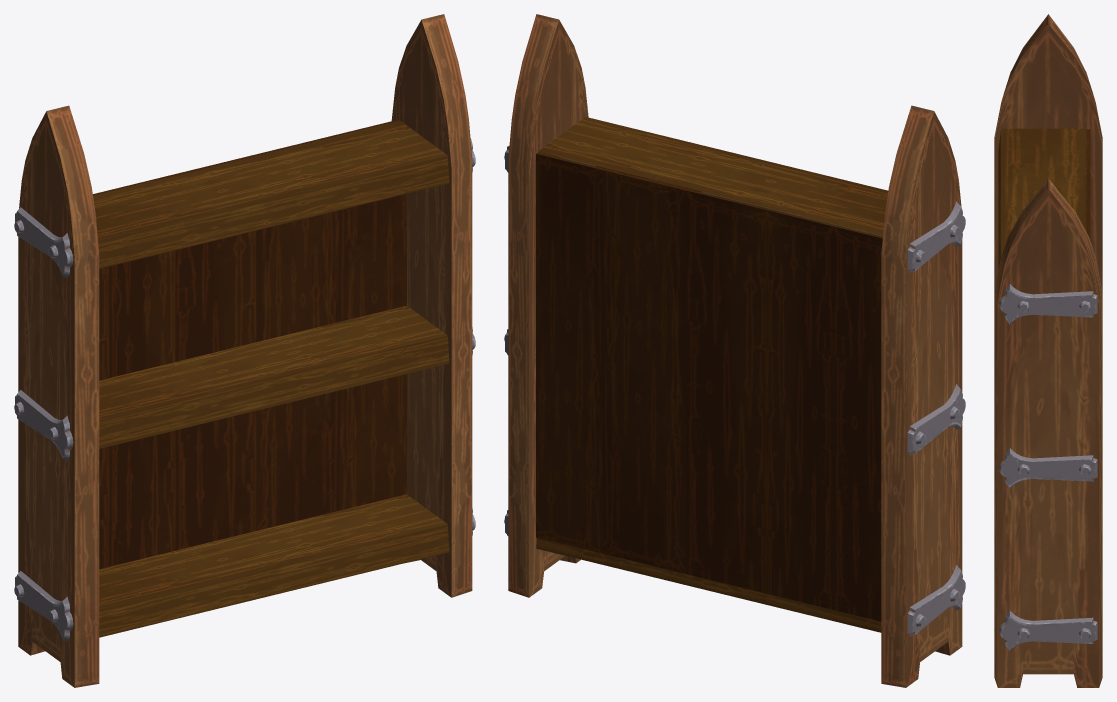
The model's file is shelf-arch.glb.
The picture shows the model from 3 angles, left to right: view 1: azimuth 30°, elevation 25°; view 2: azimuth 150°, elevation 25°; view 3: azimuth 270°, elevation 25°; orthographic projection. The views are drawn at different scales.
Parts seen in each view (by area): view 1: Shelf_Arch; view 2: Shelf_Arch; view 3: Shelf_Arch.
Part boxes in pixels (x1,y1,x2,y2): Shelf_Arch: (14,14,475,687); Shelf_Arch: (504,14,965,687); Shelf_Arch: (994,14,1102,687).
Size of the model in its own units: 1.25 by 1.59 by 0.3116.
Materials: 2 (2 with a texture image).
